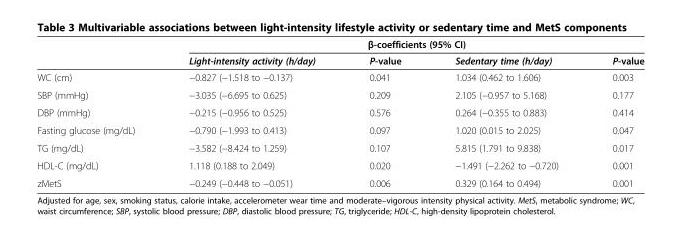table: (36, 37, 643, 188)
table column: (161, 37, 341, 188), (427, 37, 584, 188), (36, 37, 161, 188), (341, 37, 427, 188), (584, 37, 643, 188)
table column header: (36, 37, 643, 68)
table row: (36, 85, 643, 103), (36, 120, 643, 138), (36, 138, 643, 156), (36, 68, 643, 85), (36, 103, 643, 120), (36, 156, 643, 173), (36, 52, 643, 68), (36, 37, 643, 52), (36, 173, 643, 188)
table spanning cell: (161, 37, 643, 52)
